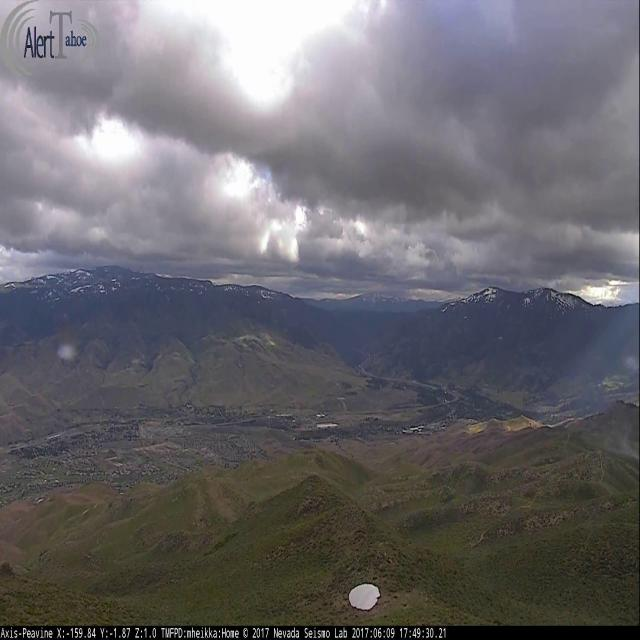smoke: (601, 349, 640, 457)
